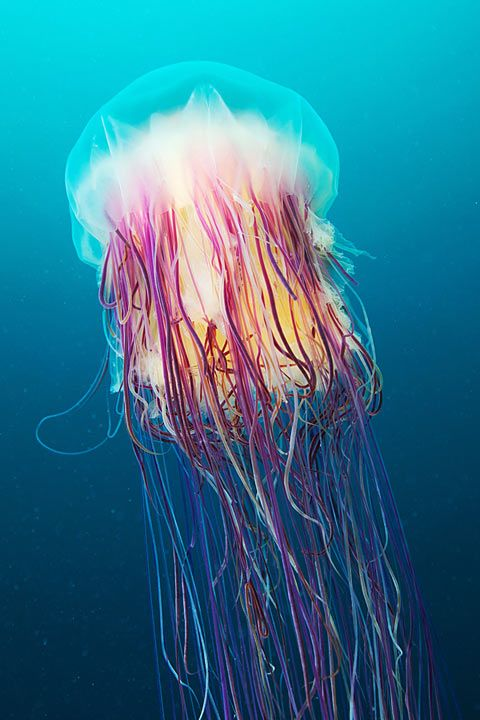jellyfish: (51, 55, 437, 710)
